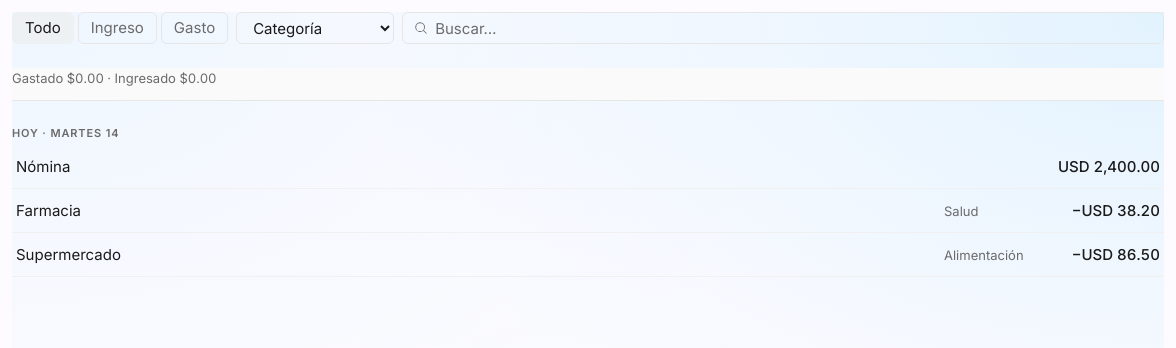
it: Historial — filtros de categoría y tipo, aplican al instante y en combinación › filtro de categoría "Salud" solo muestra los gastos de esa categoría
This screenshot has width=1176, height=348.
Select "Salud" in the dropdown named "categoría" at (315, 28), box [236,12,394,44]
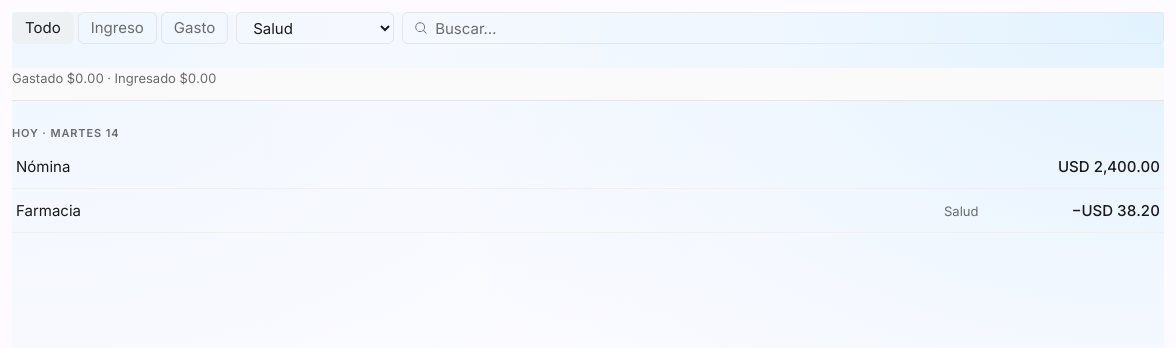
Expected: the text "Farmacia" is shown, [16,200,81,220]
Now the button "Supermercado" is gone
